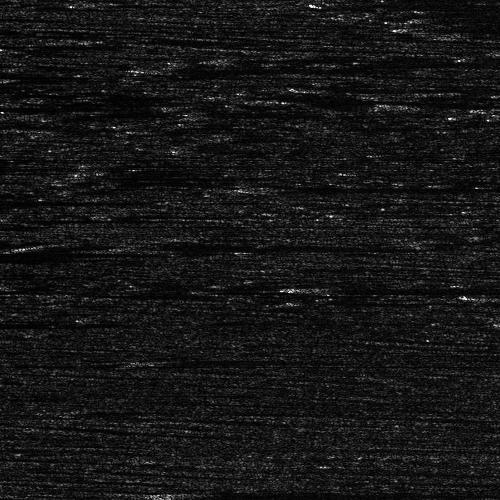object: (87, 63, 202, 76), (245, 81, 380, 92), (211, 181, 326, 192), (363, 20, 456, 33), (81, 356, 164, 365), (114, 242, 207, 249), (232, 97, 295, 104), (318, 285, 349, 290), (459, 292, 490, 297)
shadow: (269, 181, 500, 192), (145, 63, 339, 76), (161, 242, 488, 249), (0, 190, 131, 207), (312, 81, 500, 92), (0, 244, 150, 257), (123, 356, 319, 365), (0, 254, 157, 263), (264, 97, 465, 104), (410, 20, 500, 33), (0, 320, 130, 327), (333, 285, 500, 290), (0, 309, 67, 318)
